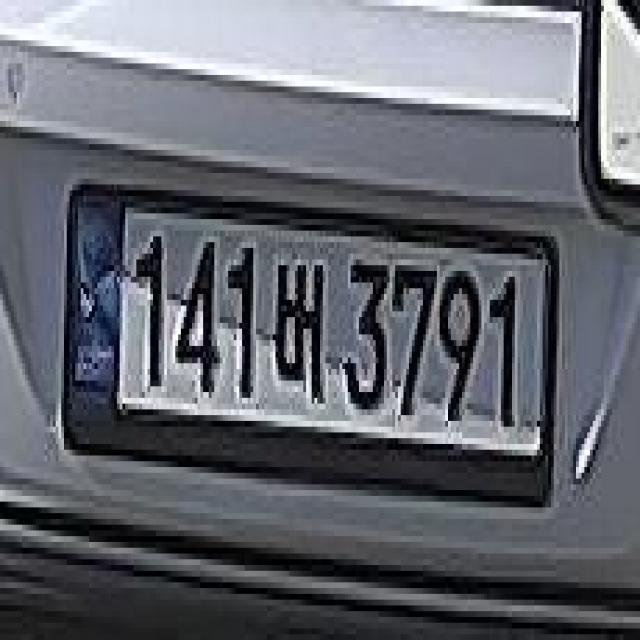illegal_plate: (59, 171, 554, 515)
